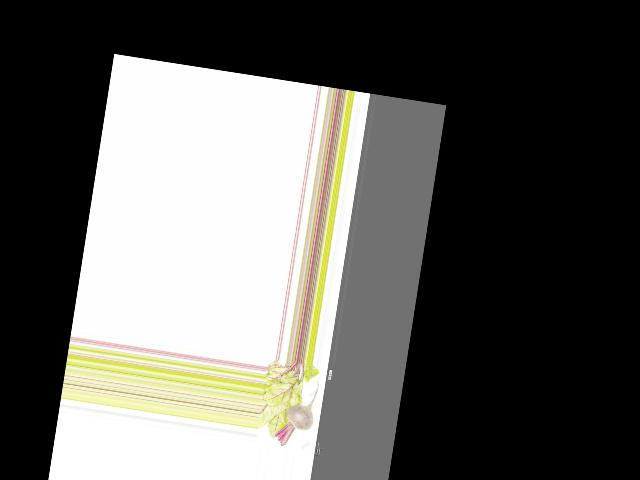beet: (273, 376, 319, 450)
